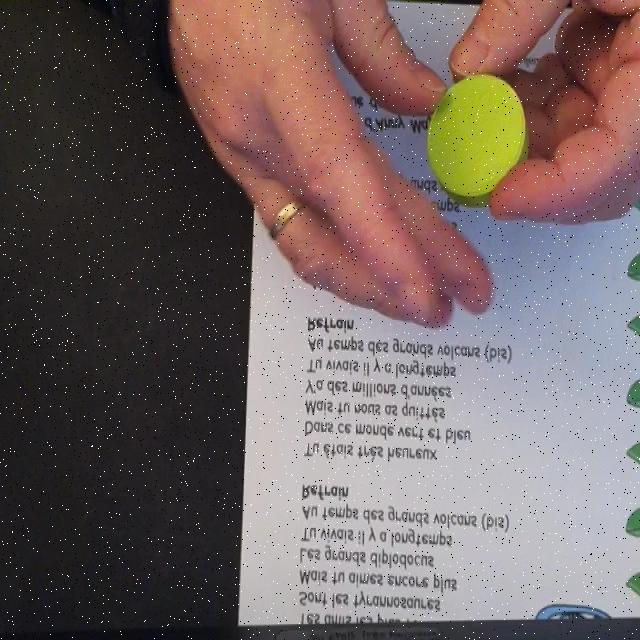round: (425, 71, 527, 206)
